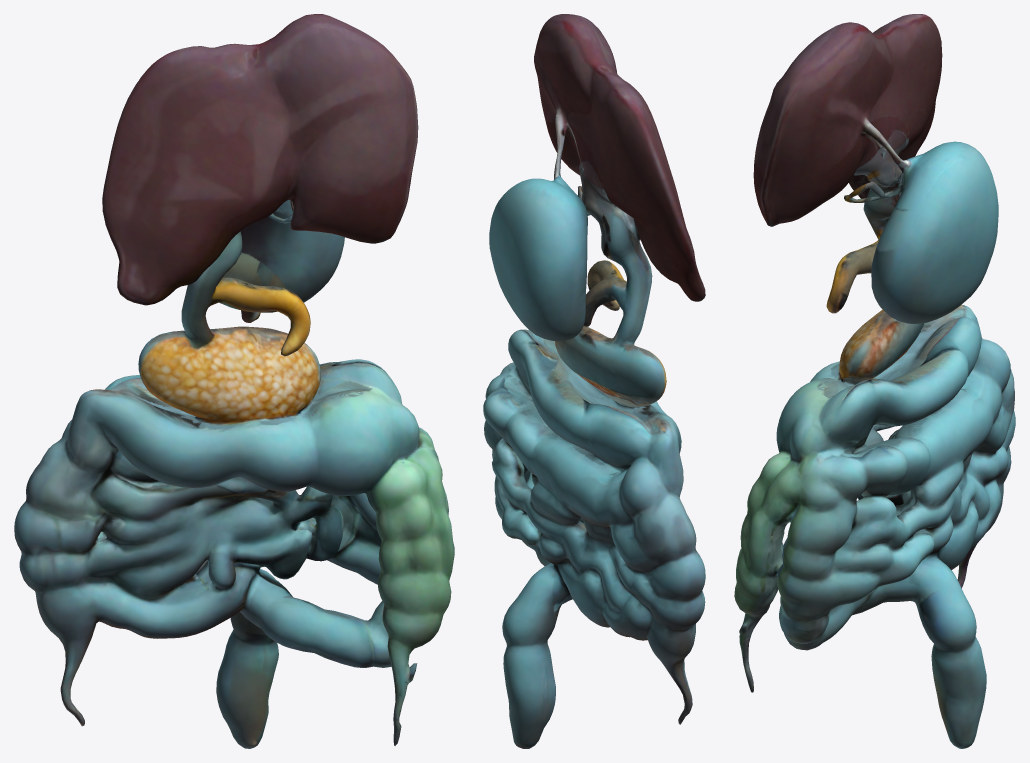
The model's file is digestive1.glb.
The picture shows the model from 3 angles, left to right: view 1: azimuth 30°, elevation 25°; view 2: azimuth 150°, elevation 25°; view 3: azimuth 270°, elevation 25°; orthographic projection. The views are drawn at different scales.
Size of the model in its own units: 0.8972 by 2 by 0.7028.
1 material, 1 textured.
